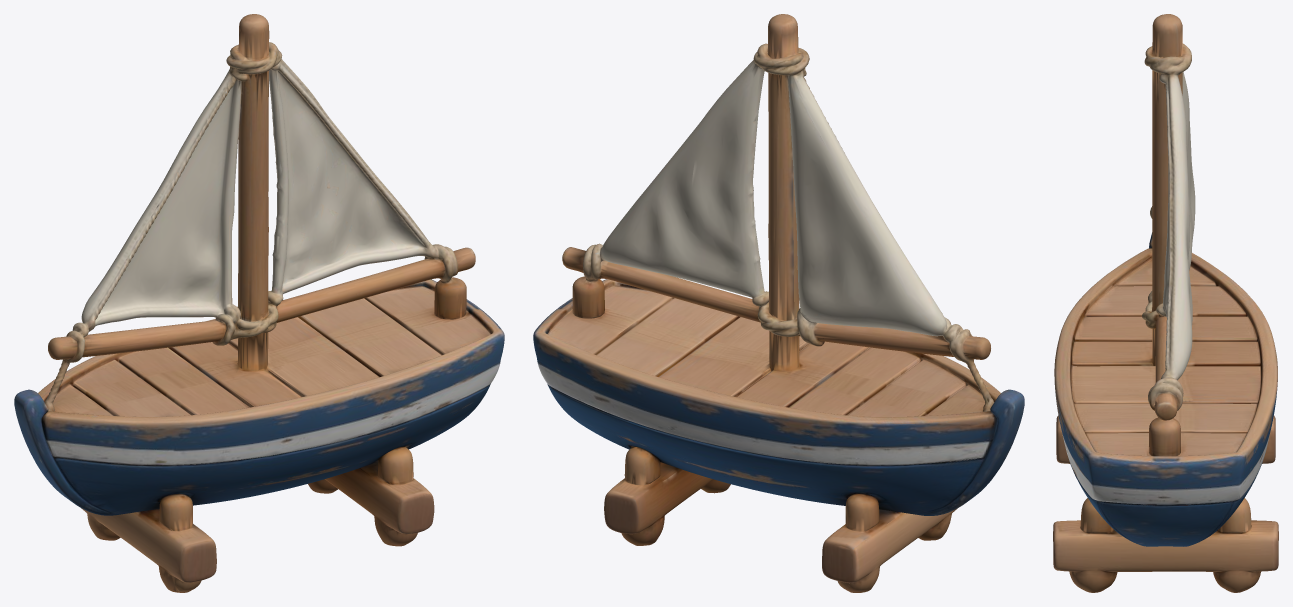
The model's file is boat.glb.
The picture shows the model from 3 angles, left to right: view 1: azimuth 30°, elevation 25°; view 2: azimuth 150°, elevation 25°; view 3: azimuth 270°, elevation 25°; orthographic projection.
Visible parts, largest first — view 1: node_0; view 2: node_0; view 3: node_0.
Part boxes in pixels (x1,y1,x2,y2): node_0: (14, 14, 504, 592); node_0: (533, 14, 1024, 592); node_0: (1053, 14, 1278, 592).
Size of the model in its own units: 0.9618 by 1.05 by 0.4131.
1 material, 1 textured.
